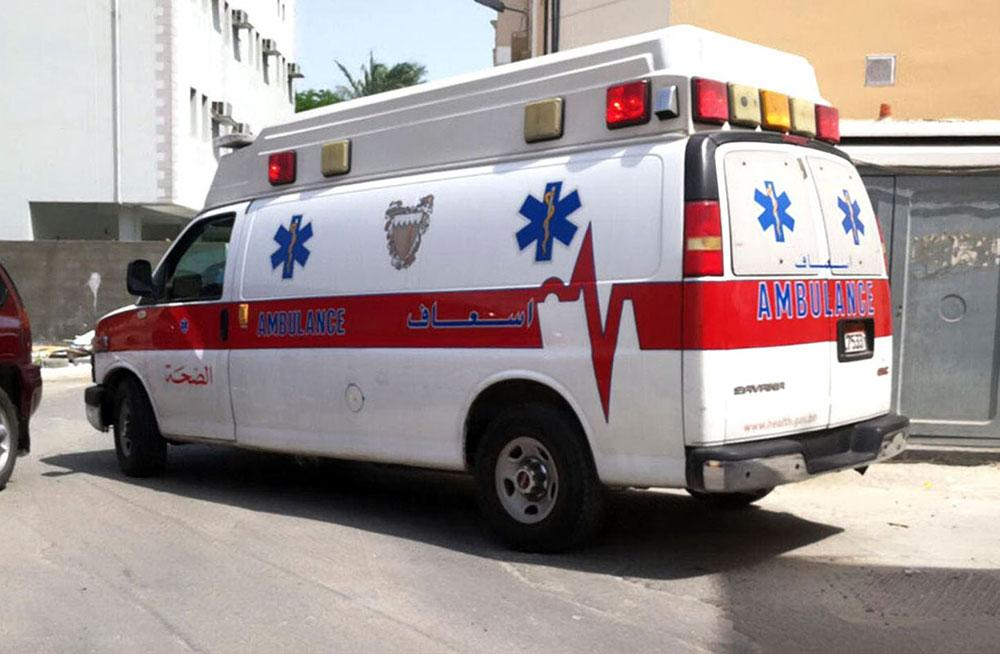ambulance_on: (84, 21, 914, 544)
